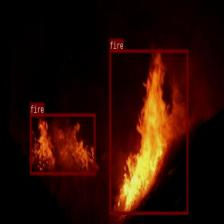fire: (110, 49, 188, 214), (30, 114, 95, 174)
